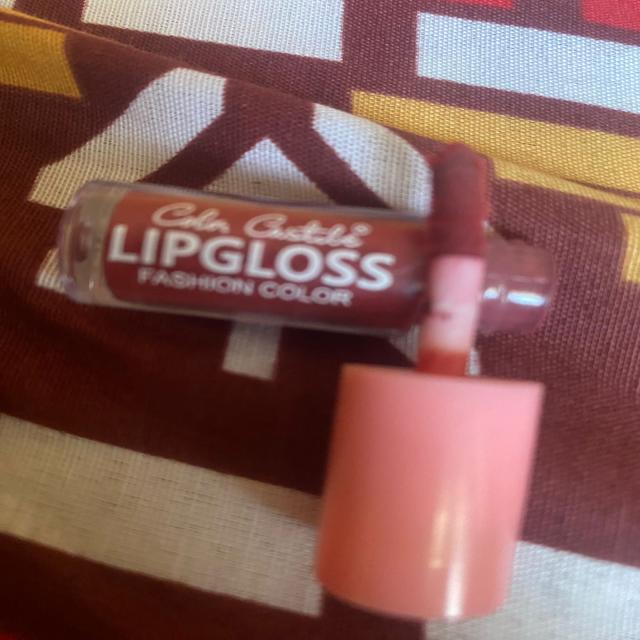lip gloss: (315, 131, 580, 634)
